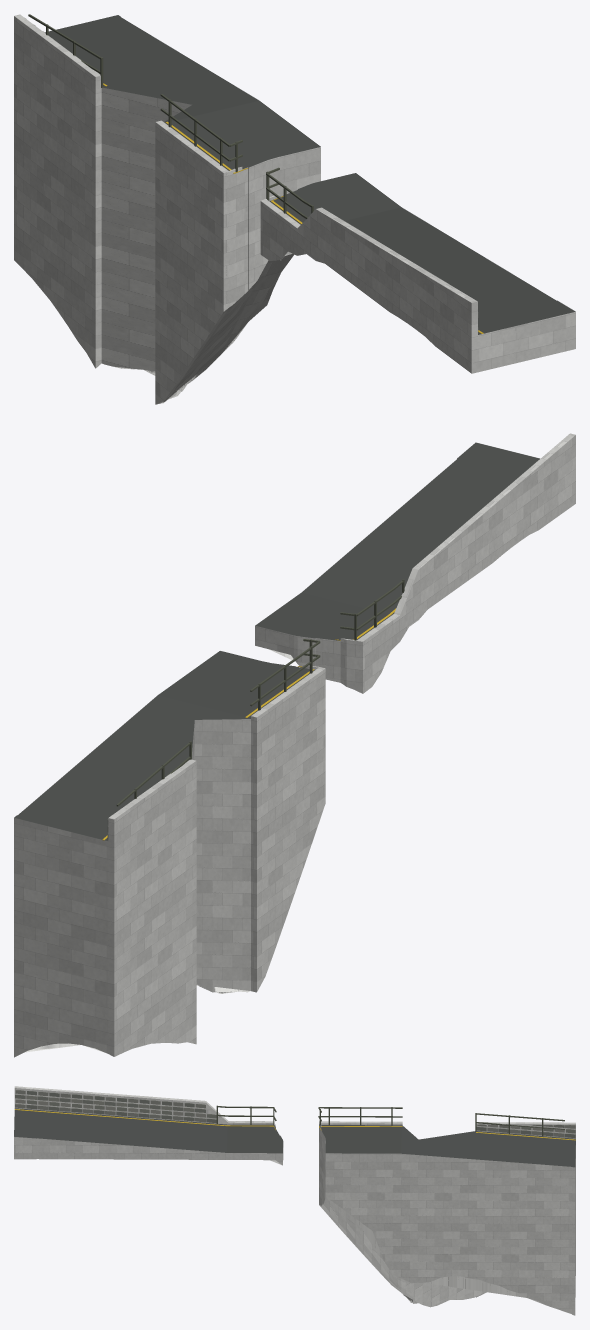
3 renders of one model, top to bottom at view 1: azimuth 30°, elevation 25°; view 2: azimuth 150°, elevation 25°; view 3: azimuth 270°, elevation 25°, orthographic. The views are drawn at different scales.
Parts seen in each view (by area): view 1: west_service__closed_paving_0, west_service__closed_paving_1, west_service__closed_paving_2, west_service__closed_hill_wall_0, west_service__closed_paving_3, west_service__closed_hill_wall_1, west_service__closed_hill_wall_2, west_service__closed_hill_wall_3, west_service__closed_hill_wall_4, west_service__closed_hill_wall_5, west_service__closed_hill_wall_6, west_service__closed_hill_wall_45 (+30 smaller); view 2: west_service__closed_paving_0, west_service__closed_paving_2, west_service__closed_paving_3, west_service__closed_paving_1, west_service__closed_hill_wall_45, west_service__closed_hill_wall_8, west_service__closed_hill_wall_0, west_service__closed_hill_wall_1, west_service__closed_hill_wall_2, west_service__closed_hill_wall_4, west_service__closed_hill_wall_5, west_service__closed_hill_wall_6 (+10 smaller); view 3: west_service__closed_paving_0, west_service__closed_paving_1, west_service__closed_paving_2, west_service__closed_paving_3, west_service__safety_rails.
Part boxes in pixels (x1,y1,x2,y2): west_service__closed_paving_0: (45, 15, 258, 403); west_service__closed_paving_1: (163, 100, 320, 402); west_service__closed_paving_2: (344, 207, 575, 372); west_service__closed_hill_wall_0: (86, 69, 101, 368); west_service__closed_paving_3: (269, 173, 401, 260); west_service__closed_hill_wall_1: (77, 62, 91, 352); west_service__closed_hill_wall_2: (68, 55, 82, 339); west_service__closed_hill_wall_3: (59, 48, 73, 325); west_service__closed_hill_wall_4: (50, 41, 64, 312); west_service__closed_hill_wall_5: (41, 35, 55, 300); west_service__closed_hill_wall_6: (32, 28, 45, 289); west_service__closed_hill_wall_45: (155, 120, 168, 404); west_service__closed_paving_0: (14, 695, 250, 1057); west_service__closed_paving_2: (302, 442, 539, 615); west_service__closed_paving_3: (255, 592, 391, 682); west_service__closed_paving_1: (158, 651, 314, 718); west_service__closed_hill_wall_45: (251, 710, 265, 992); west_service__closed_hill_wall_8: (108, 811, 123, 1056); west_service__closed_hill_wall_0: (182, 759, 196, 1044); west_service__closed_hill_wall_1: (173, 766, 187, 1043); west_service__closed_hill_wall_2: (164, 772, 178, 1043); west_service__closed_hill_wall_4: (145, 785, 159, 1043); west_service__closed_hill_wall_5: (137, 792, 150, 1045); west_service__closed_hill_wall_6: (127, 798, 141, 1048); west_service__closed_paving_0: (401, 1125, 575, 1315); west_service__closed_paving_1: (319, 1125, 401, 1292); west_service__closed_paving_2: (14, 1108, 227, 1159); west_service__closed_paving_3: (227, 1124, 283, 1165); west_service__safety_rails: (216, 1105, 564, 1136).
Bounding box in the file's own units: 4.03 × 11.94 × 29.04.
Materials: 10 (1 with a texture image).
